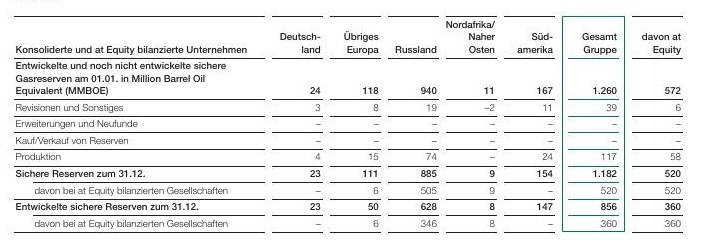table: (0, 0, 706, 247)
